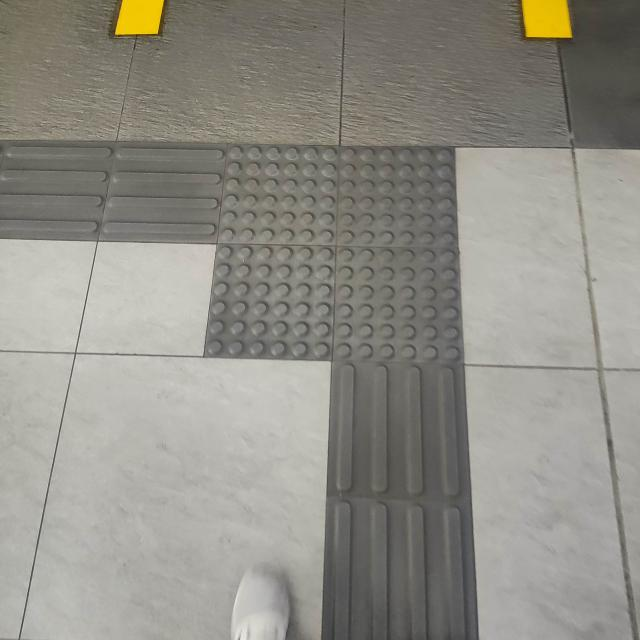kiri: (15, 83, 522, 461)
